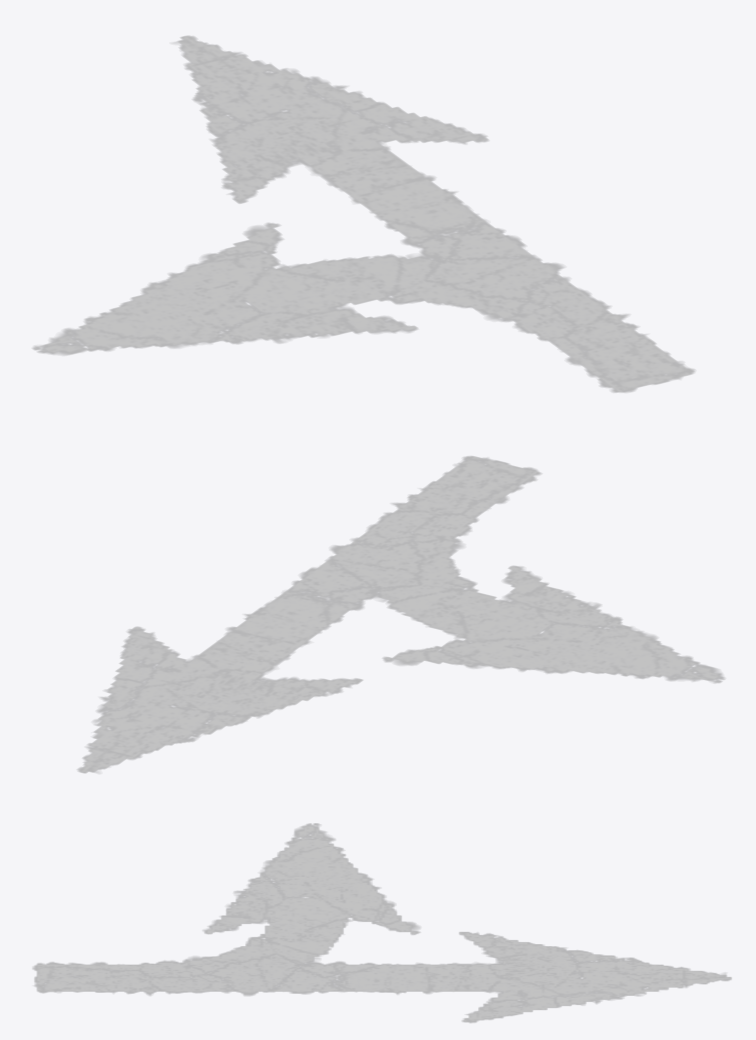
The model's file is Decal_ArrowForwardLeft.glb.
The picture shows the model from 3 angles, top to bottom: view 1: azimuth 30°, elevation 25°; view 2: azimuth 150°, elevation 25°; view 3: azimuth 270°, elevation 25°; orthographic projection. The views are drawn at different scales.
Visible parts, largest first — view 1: Decal_ArrowForwardLeft; view 2: Decal_ArrowForwardLeft; view 3: Decal_ArrowForwardLeft.
Part boxes in pixels (x1,y1,x2,y2): Decal_ArrowForwardLeft: (33,36,694,392); Decal_ArrowForwardLeft: (78,456,724,773); Decal_ArrowForwardLeft: (33,823,731,1022).
Bounding box in the file's own units: 1.78 × 0 × 2.67.
Materials: 1 (1 with a texture image).
